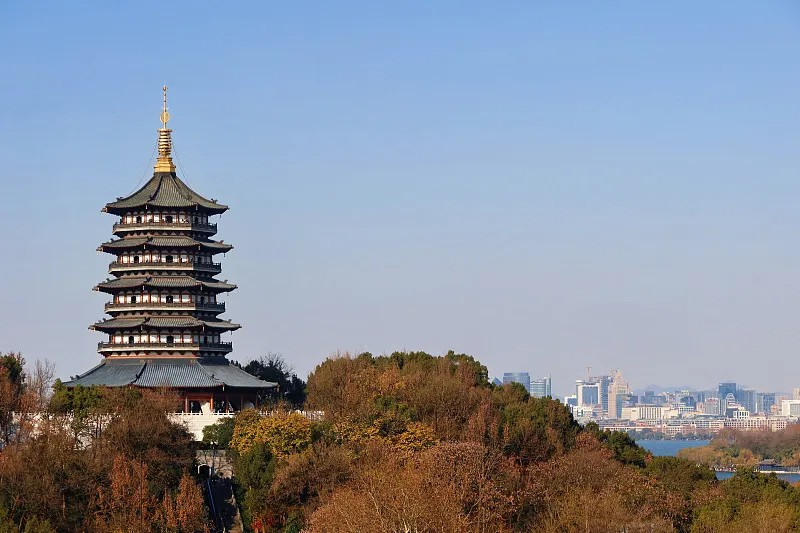Leifeng: (60, 83, 280, 415)
